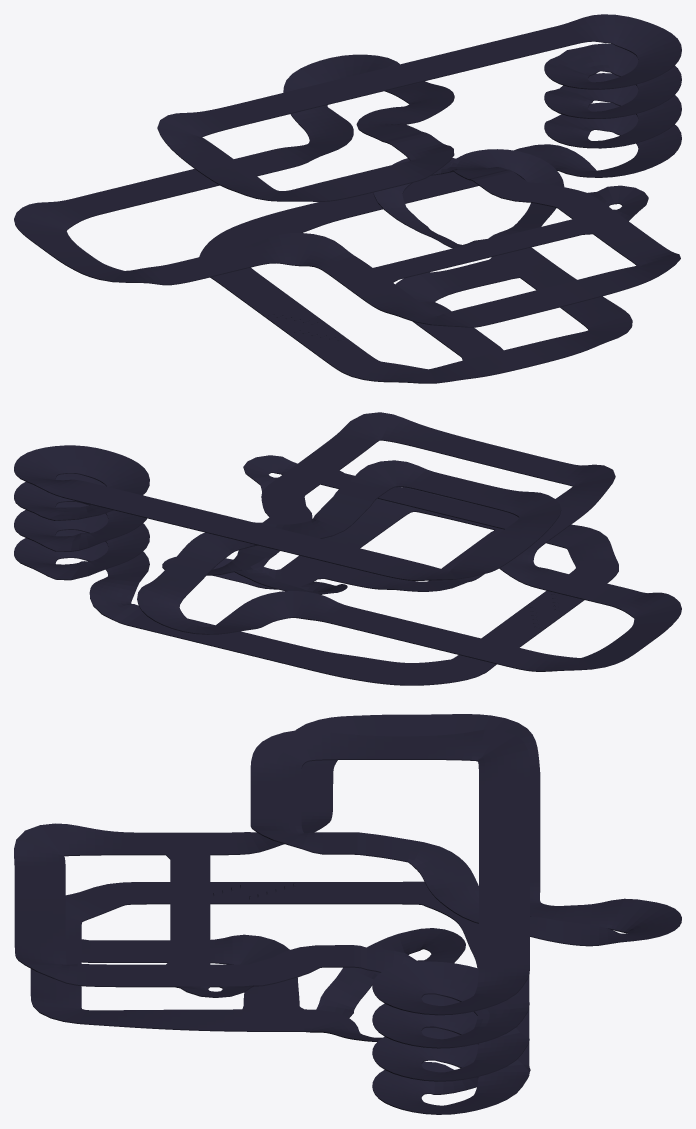
Rendered from GolisanoHall_V1.0_CutUp_FlippedNormals.fbx.
3 renders of one model, top to bottom at view 1: azimuth 30°, elevation 25°; view 2: azimuth 150°, elevation 25°; view 3: azimuth 270°, elevation 25°, orthographic. The views are drawn at different scales.
Visible parts, largest first — view 1: TF_CannonStrip, TF_Spiral1, FF_ToSF, FF_Start, SF_WICToOfficeTurn, TF_Spiral2, TF_Spiral4, SF_IGMOffice, TF_Spiral3, SF_Shortcut, SF_Hallway2, SF_ToTF (+25 smaller); view 2: TF_CannonStrip, TF_Spiral1, SF_ToTF, SF_IGMOffice, SF_WICToOfficeTurn, TF_Spiral4, FF_EndCurve, TF_Spiral3, FF_ToSF, FF_FromTF, TF_Spiral2, SF_Hallway2 (+25 smaller); view 3: TF_CannonStrip, FF_ToSF, TF_Spiral1, SF_ToTF, FF_Start, TF_Spiral2, TF_Spiral3, TF_Spiral4, SF_WICToOfficeTurn, SF_Shortcut, TF_Turn2, SF_OfficeTurn (+24 smaller).
Part boxes in pixels (x1,y1,x2,y2): TF_CannonStrip: (205,27,575,129); TF_Spiral1: (544,14,681,89); FF_ToSF: (373,149,564,248); FF_Start: (210,267,374,369); SF_WICToOfficeTurn: (14,200,180,285); TF_Spiral2: (544,43,681,118); TF_Spiral4: (533,102,681,177); SF_IGMOffice: (66,148,300,217); TF_Spiral3: (544,73,681,148); SF_Shortcut: (373,219,592,282); SF_Hallway2: (458,275,616,326); SF_ToTF: (356,81,454,142); TF_CannonStrip: (69,483,422,579); TF_Spiral1: (14,445,149,519); SF_ToTF: (153,493,373,591); SF_IGMOffice: (323,605,545,670); SF_WICToOfficeTurn: (526,590,681,671); TF_Spiral4: (14,530,149,605); FF_EndCurve: (303,651,491,685); TF_Spiral3: (14,502,149,580); FF_ToSF: (162,517,347,594); FF_FromTF: (127,613,323,668); TF_Spiral2: (14,473,146,551); SF_Hallway2: (423,432,573,481); TF_CannonStrip: (479,772,529,964); FF_ToSF: (304,928,465,1041); TF_Spiral1: (372,961,529,1015); SF_ToTF: (357,832,590,946); FF_Start: (133,881,418,904); TF_Spiral2: (372,994,529,1048); TF_Spiral3: (372,1028,529,1081); TF_Spiral4: (372,1061,529,1114); SF_WICToOfficeTurn: (295,714,539,768); SF_Shortcut: (166,854,210,964); TF_Turn2: (250,730,374,781); SF_OfficeTurn: (14,823,139,865).
Size of the model in its own units: 377681 by 73172 by 301034.
